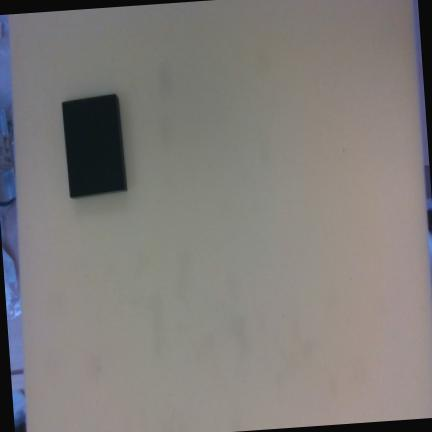tile: (61, 93, 123, 197)
